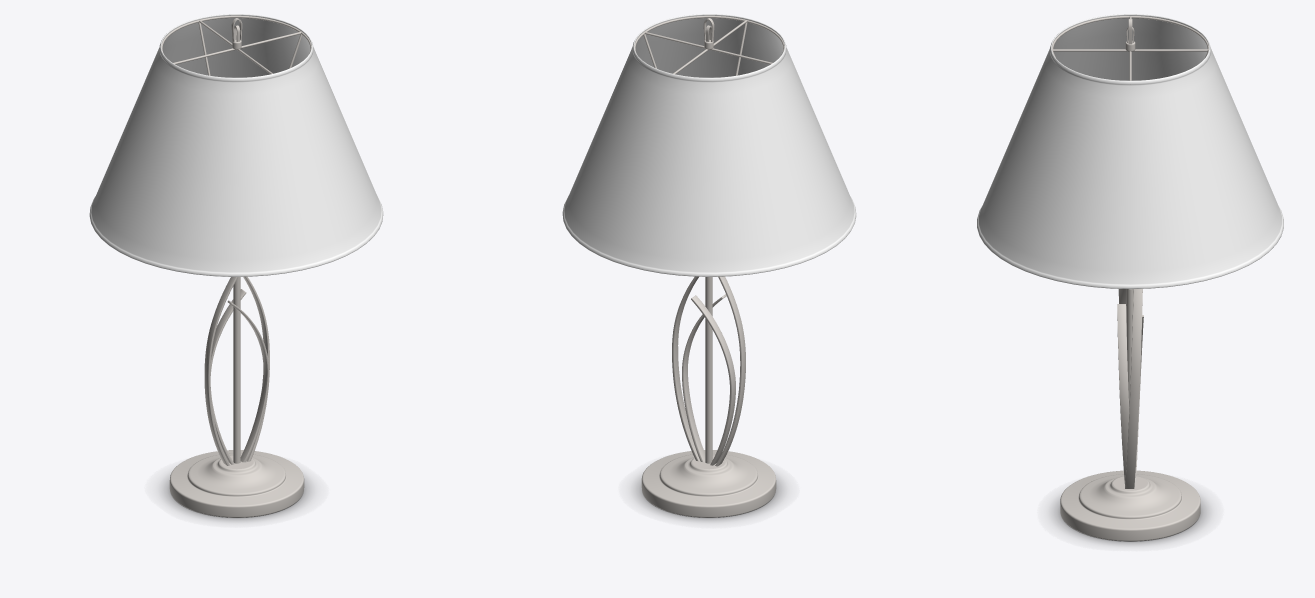
3 renders of one model, left to right at view 1: azimuth 30°, elevation 25°; view 2: azimuth 150°, elevation 25°; view 3: azimuth 270°, elevation 25°, orthographic. The views are drawn at different scales.
Visible parts, largest first — view 1: lamp, lamp_Shadow; view 2: lamp, lamp_Shadow; view 3: lamp, lamp_Shadow.
Part boxes in pixels (box(x1,y1,x2,y2)): lamp: box(89, 14, 383, 517); lamp_Shadow: box(161, 475, 312, 521); lamp: box(562, 14, 856, 517); lamp_Shadow: box(633, 475, 784, 521); lamp: box(977, 14, 1283, 541); lamp_Shadow: box(1051, 496, 1209, 545).
Size of the model in its own units: 0.4 by 0.6388 by 0.4.
Materials: 3 (3 with a texture image).
